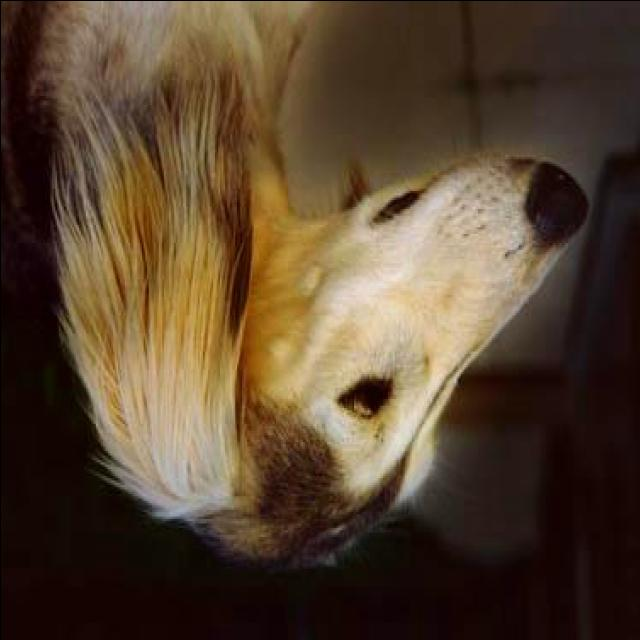saluki: (7, 5, 599, 581)
